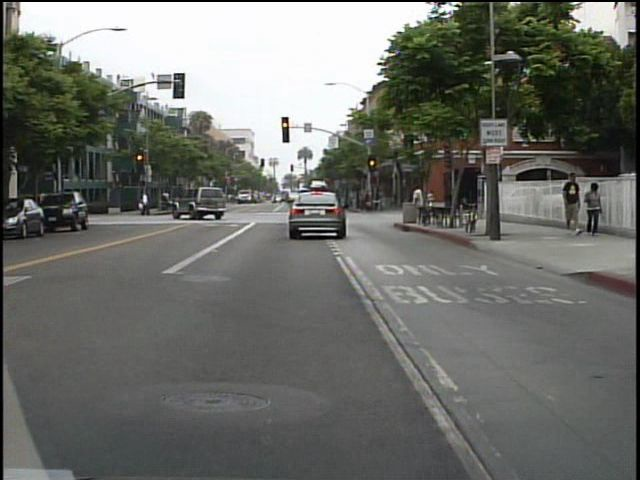person: (560, 166, 586, 236), (581, 180, 606, 242), (411, 180, 432, 226), (141, 187, 158, 220)
